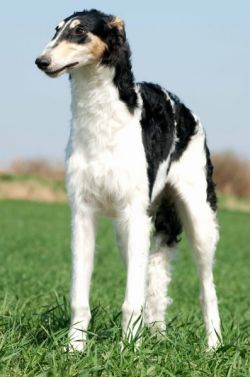borzoi: (33, 10, 225, 351)
